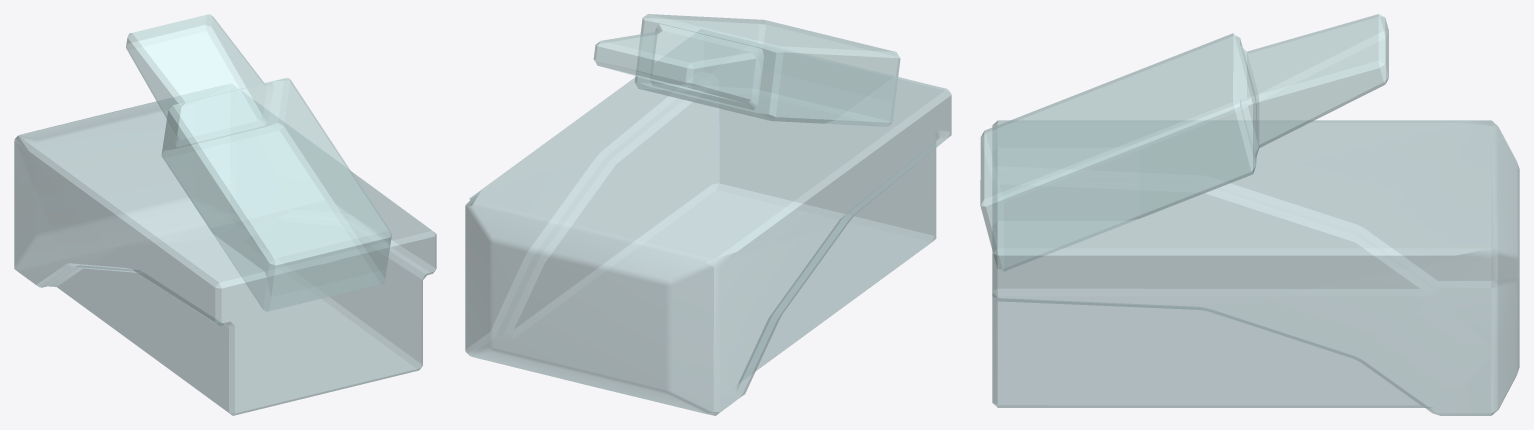
File: Cable_Grab_2.fbx
3 views of the same model, side by side, from view 1: azimuth 30°, elevation 25°; view 2: azimuth 150°, elevation 25°; view 3: azimuth 270°, elevation 25° (orthographic). The views are drawn at different scales.
Parts seen in each view (by area): view 1: pCube5; view 2: pCube5; view 3: pCube5.
Boxes of the visible parts, x1=… form: pCube5: x1=14, y1=14, x2=436, y2=415; pCube5: x1=465, y1=14, x2=951, y2=415; pCube5: x1=980, y1=14, x2=1519, y2=415.
Size of the model in its own units: 1.35 by 1.49 by 2.31.
